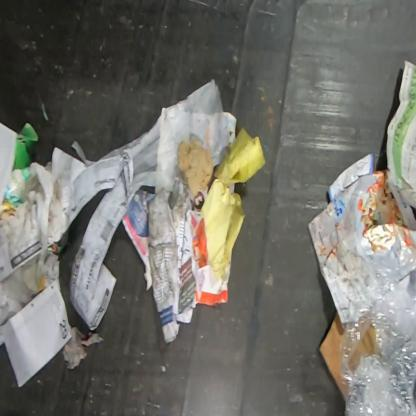cardboard: (318, 312, 348, 403)
soft_plastic: (336, 268, 415, 415)
